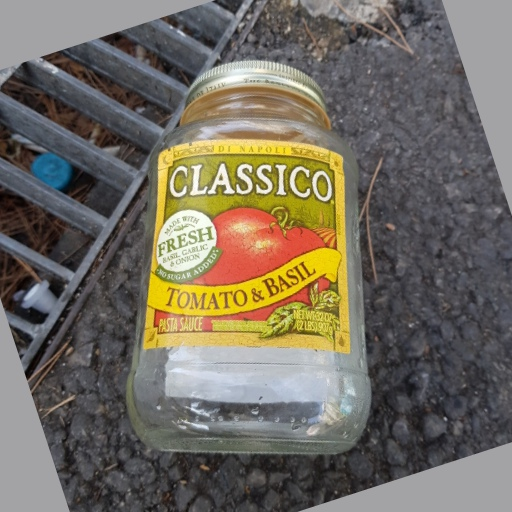Glass_5: (120, 59, 372, 453)
